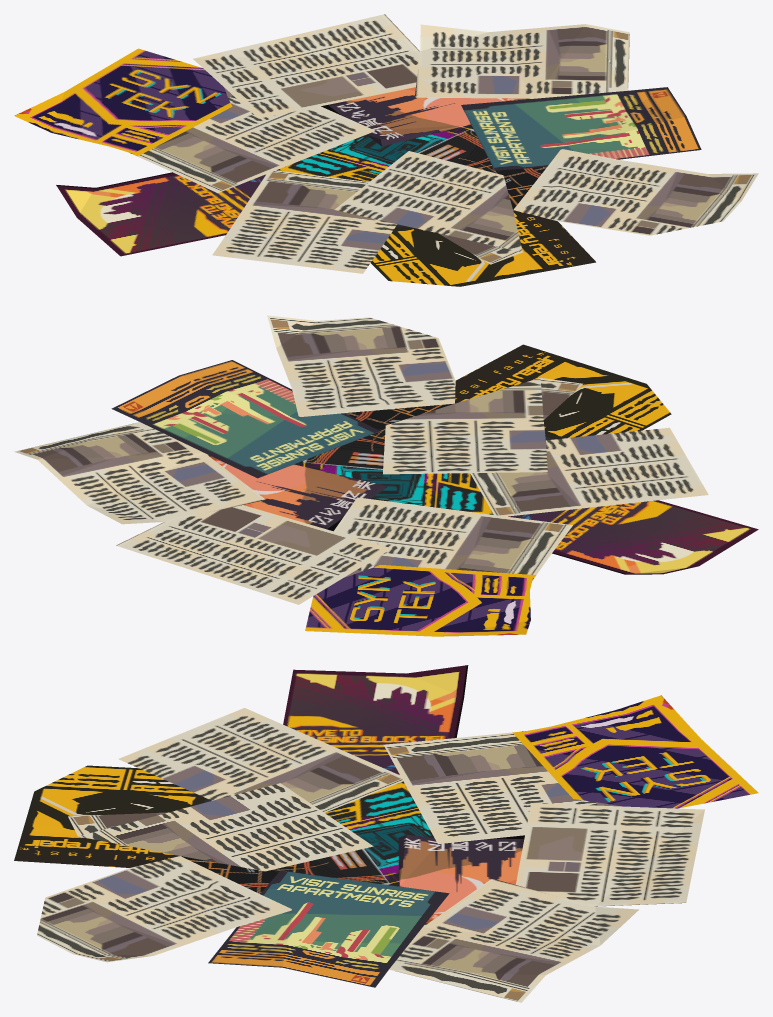
The model's file is SM_Prop_Junk_Paper_11.fbx.
3 renders of one model, top to bottom at view 1: azimuth 30°, elevation 25°; view 2: azimuth 150°, elevation 25°; view 3: azimuth 270°, elevation 25°, orthographic. The views are drawn at different scales.
Visible parts, largest first — view 1: SM_Prop_Junk_Paper_11; view 2: SM_Prop_Junk_Paper_11; view 3: SM_Prop_Junk_Paper_11.
Part boxes in pixels (x1,y1,x2,y2): SM_Prop_Junk_Paper_11: [14, 14, 758, 286]; SM_Prop_Junk_Paper_11: [14, 315, 758, 636]; SM_Prop_Junk_Paper_11: [14, 665, 758, 1002].
Size of the model in its own units: 205 by 3.5 by 194.
